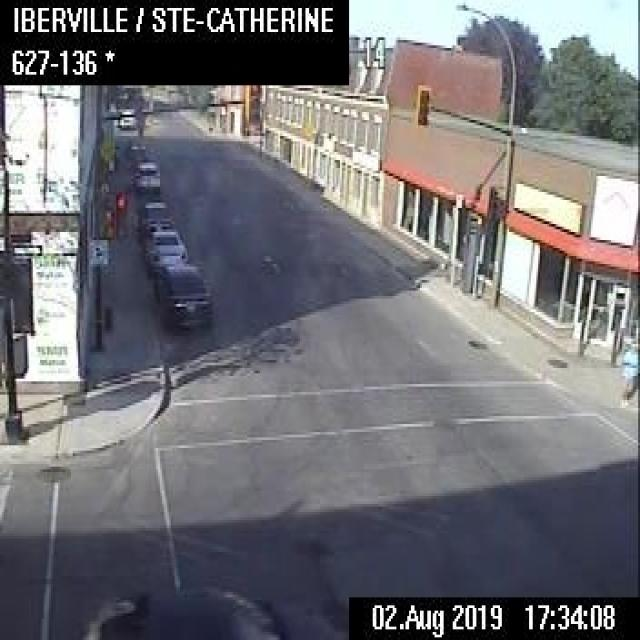pedestrian: (618, 341, 638, 411)
vehicle: (71, 584, 338, 637), (156, 261, 211, 325), (145, 226, 187, 270), (140, 199, 173, 233), (132, 158, 160, 190), (117, 105, 136, 126), (127, 141, 144, 164)
